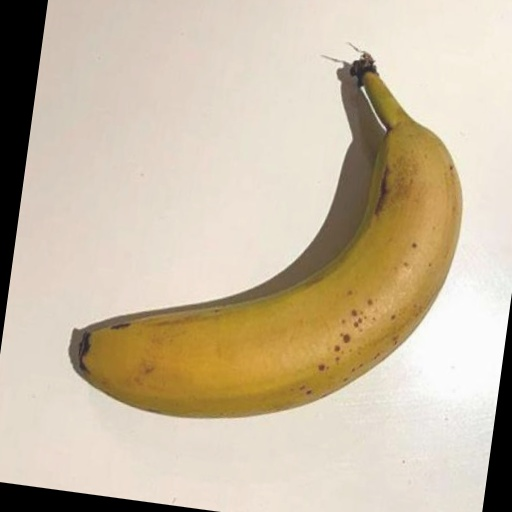fruit: (79, 53, 461, 417)
